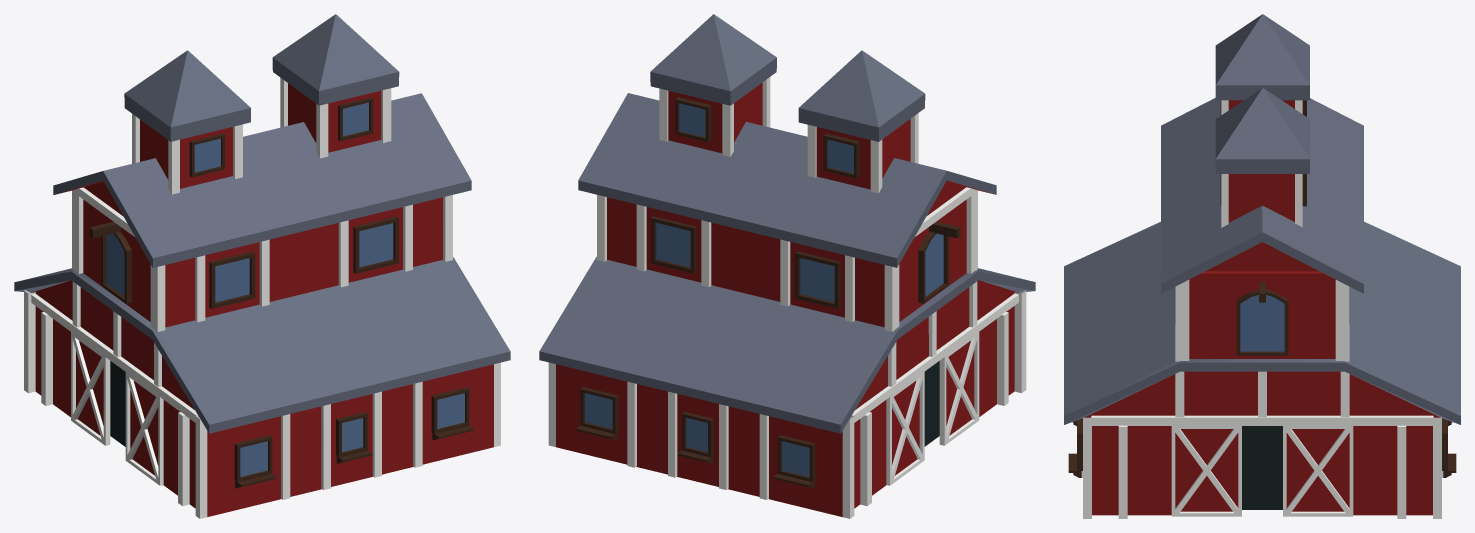
Rendered from barn.glb.
3 views of the same model, side by side, from view 1: azimuth 30°, elevation 25°; view 2: azimuth 150°, elevation 25°; view 3: azimuth 270°, elevation 25° (orthographic).
Parts seen in each view (by area): view 1: node-0.001; view 2: node-0.001; view 3: node-0.001.
Boxes of the visible parts, x1,y1,x2,y2 form: node-0.001: (14,14,510,518); node-0.001: (539,14,1035,518); node-0.001: (1064,14,1460,518).
Size of the model in its own units: 15.1 by 16.26 by 14.88.
